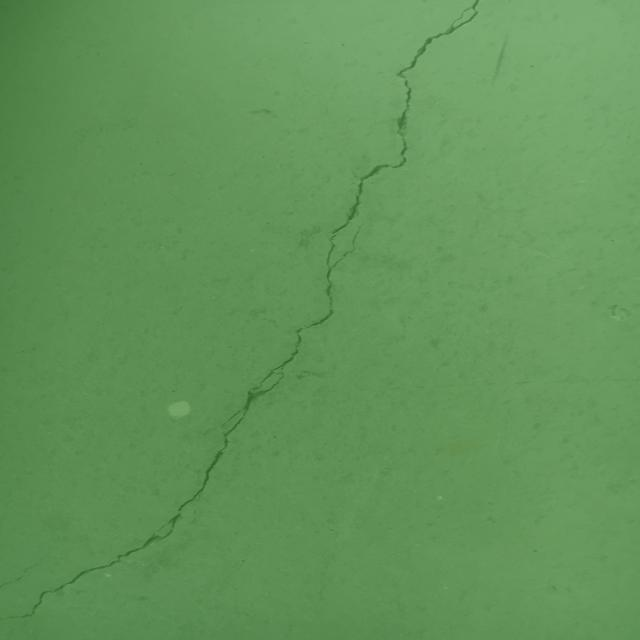crack: (0, 0, 481, 621), (0, 550, 52, 589)
